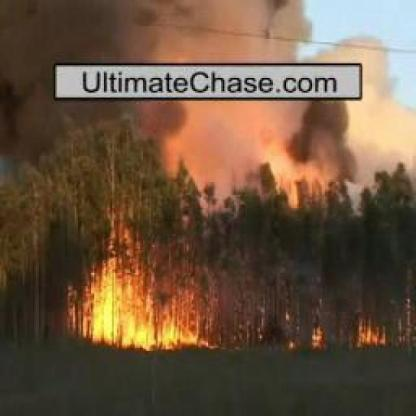fire: (61, 222, 204, 348), (356, 317, 390, 349), (308, 324, 330, 348)
